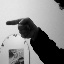g: (5, 15, 36, 43)
